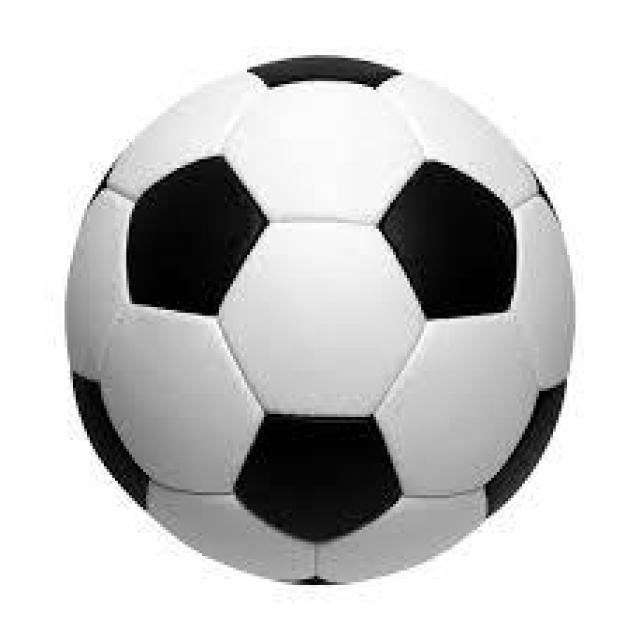Soccer Ball: (68, 52, 576, 600)
